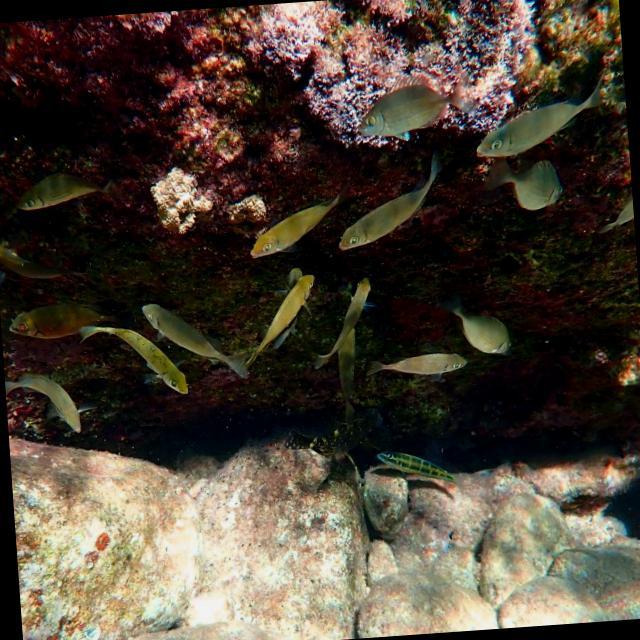Sokar Baligi: (346, 54, 483, 156), (232, 168, 360, 268), (7, 154, 134, 226), (426, 273, 518, 369)
